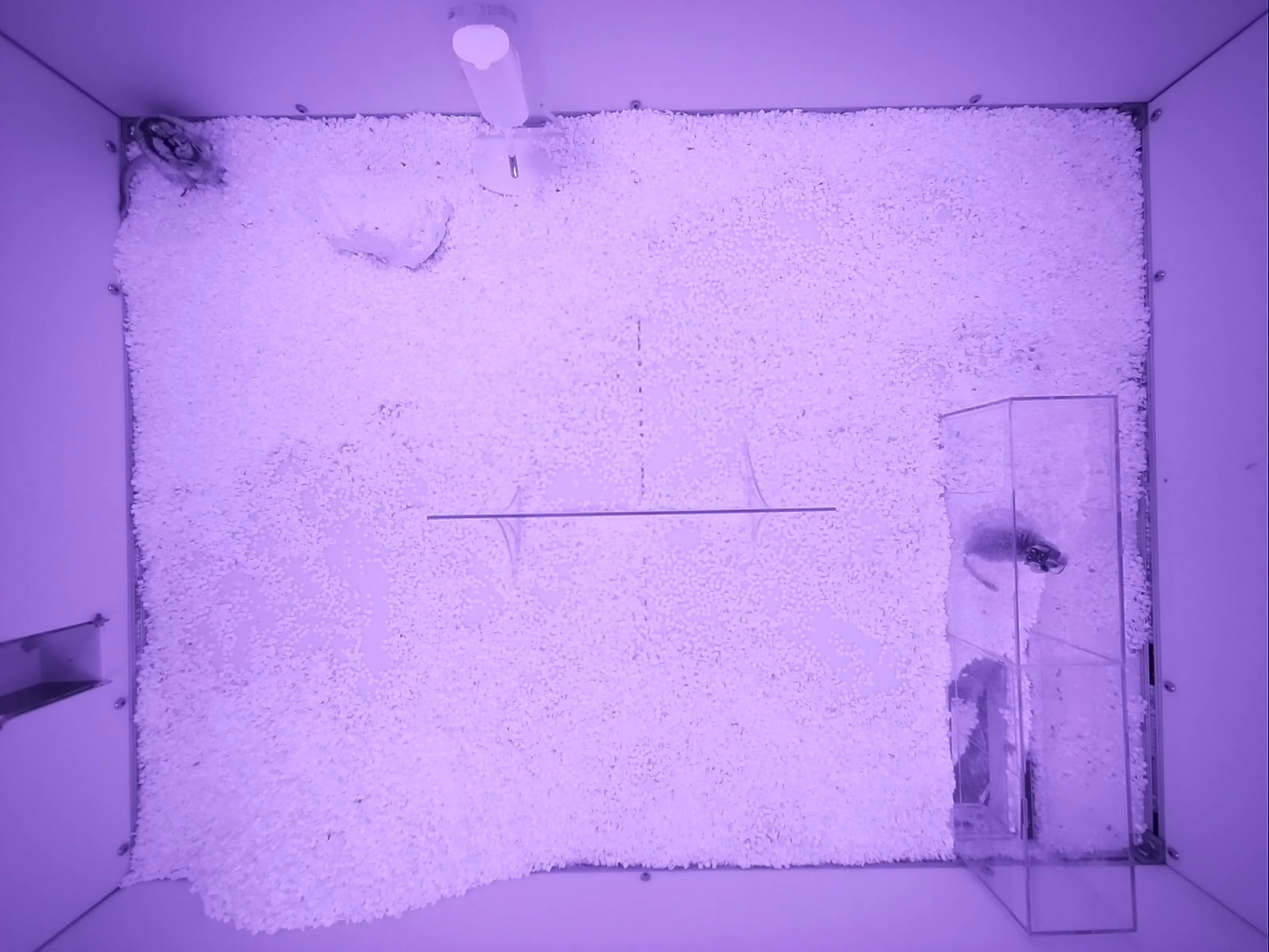adult_back: (120, 115, 224, 217), (961, 526, 1068, 590)
